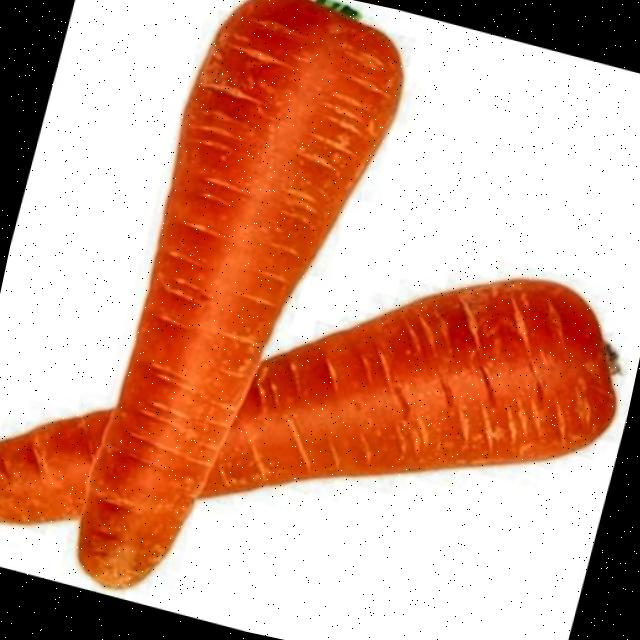carrot: (79, 0, 401, 587), (0, 280, 614, 528)
